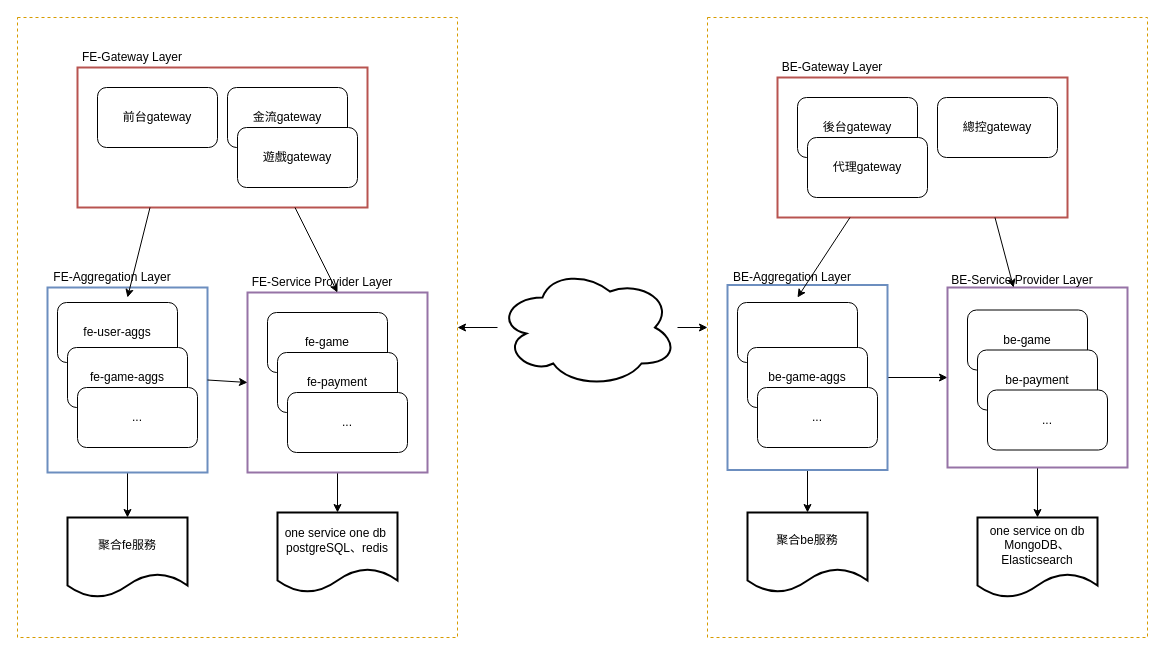
Some shapes in this 1165 by 655 pixel diagram are drawn without their labels. Each missing label, with the centre of its shape:
"be-user-aggs" goes at pixel 797 332.
"RabbitMQ" goes at pixel 587 327.
